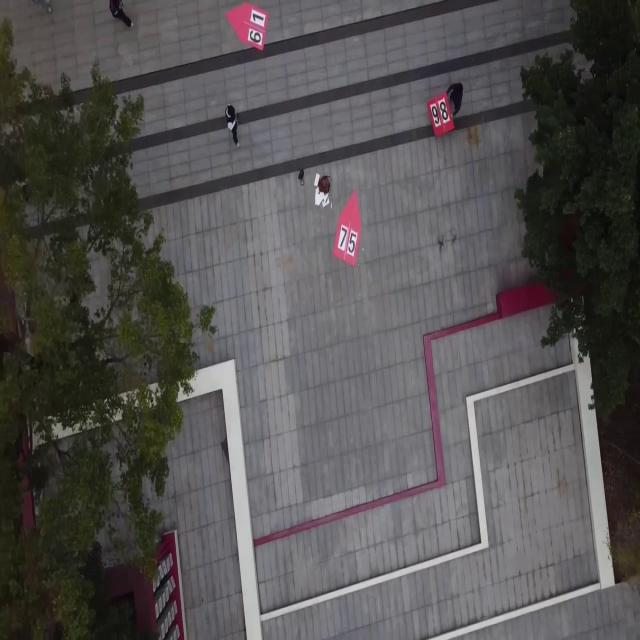-sign-: (225, 2, 282, 59), (333, 184, 368, 274)
